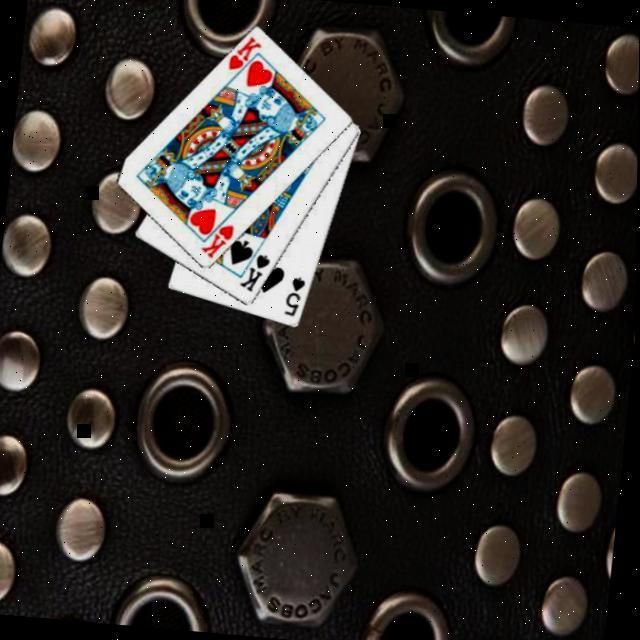5S: (280, 273, 308, 321)
KH: (197, 220, 237, 264), (224, 33, 264, 76)
KS: (235, 250, 274, 297)
